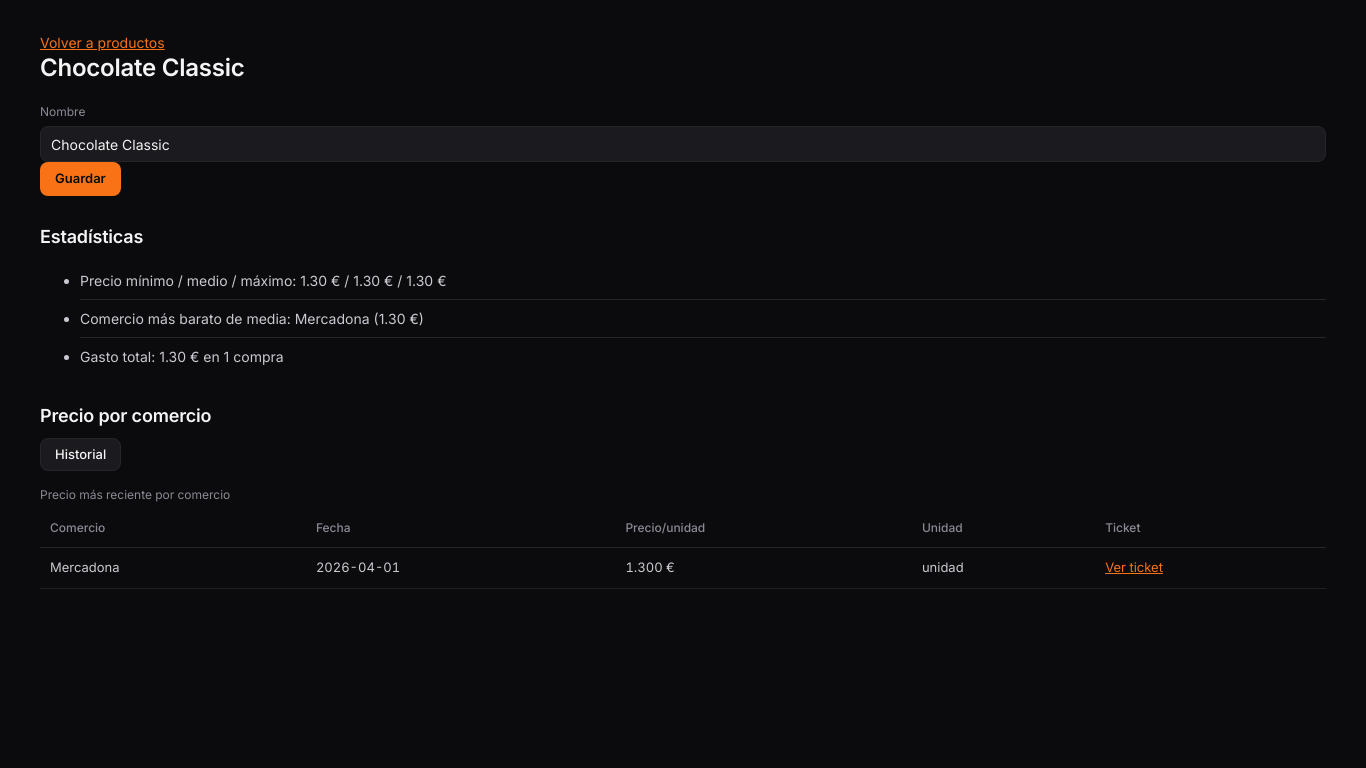
Test: ProductDetailPage › un 409 del backend se muestra sin perder el valor editado
Expected: the heading "Chocolate Classic" is shown, [40,53,244,82]
Replace the text in the field labelled "Nombre" with "Nachos" at (683, 144), box [40,126,1326,162]
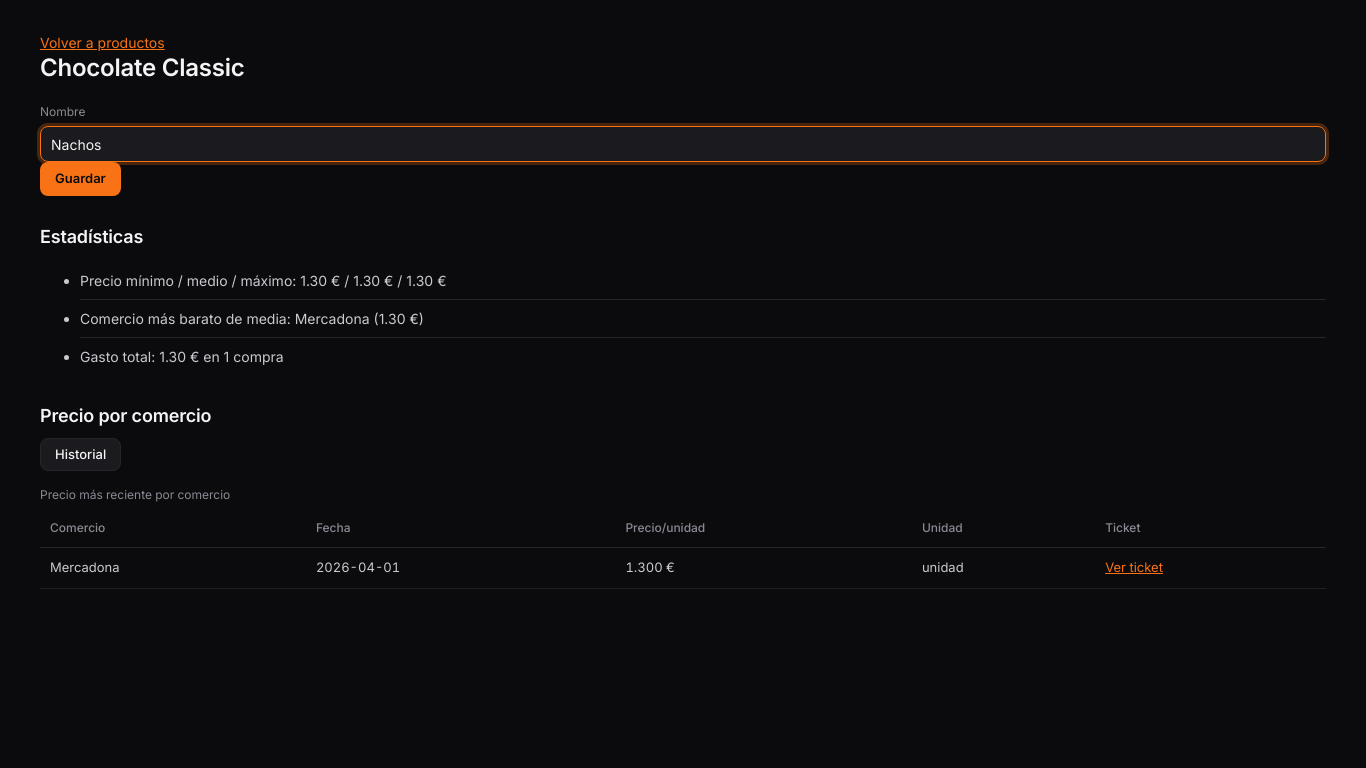
Click the button "Guardar" at (80, 179), box [40,162,121,196]
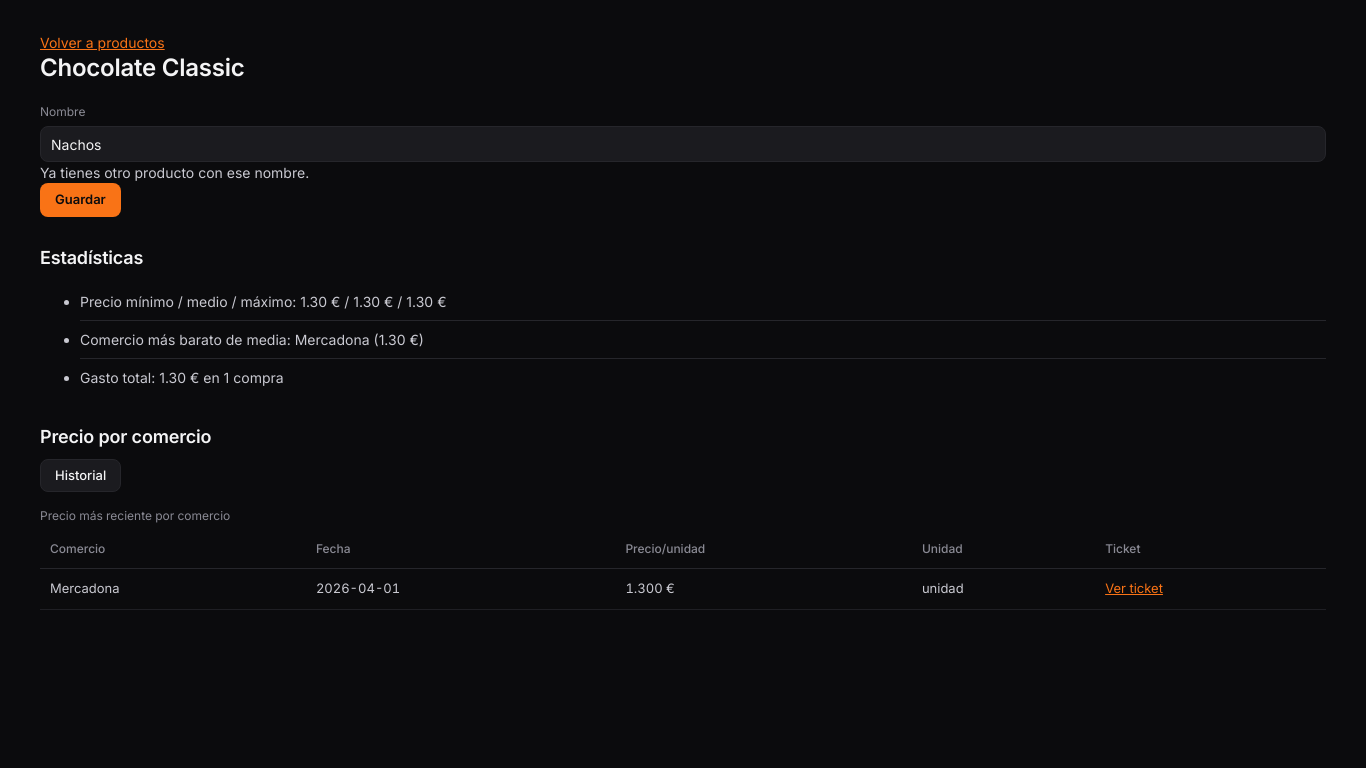
Expected: the message reads "Ya tienes otro producto con ese nombre.", [40,164,309,181]
